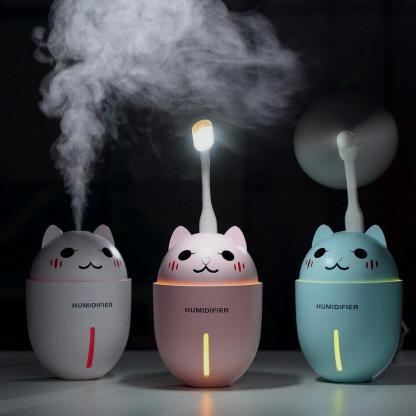smoke: (54, 0, 273, 132)
